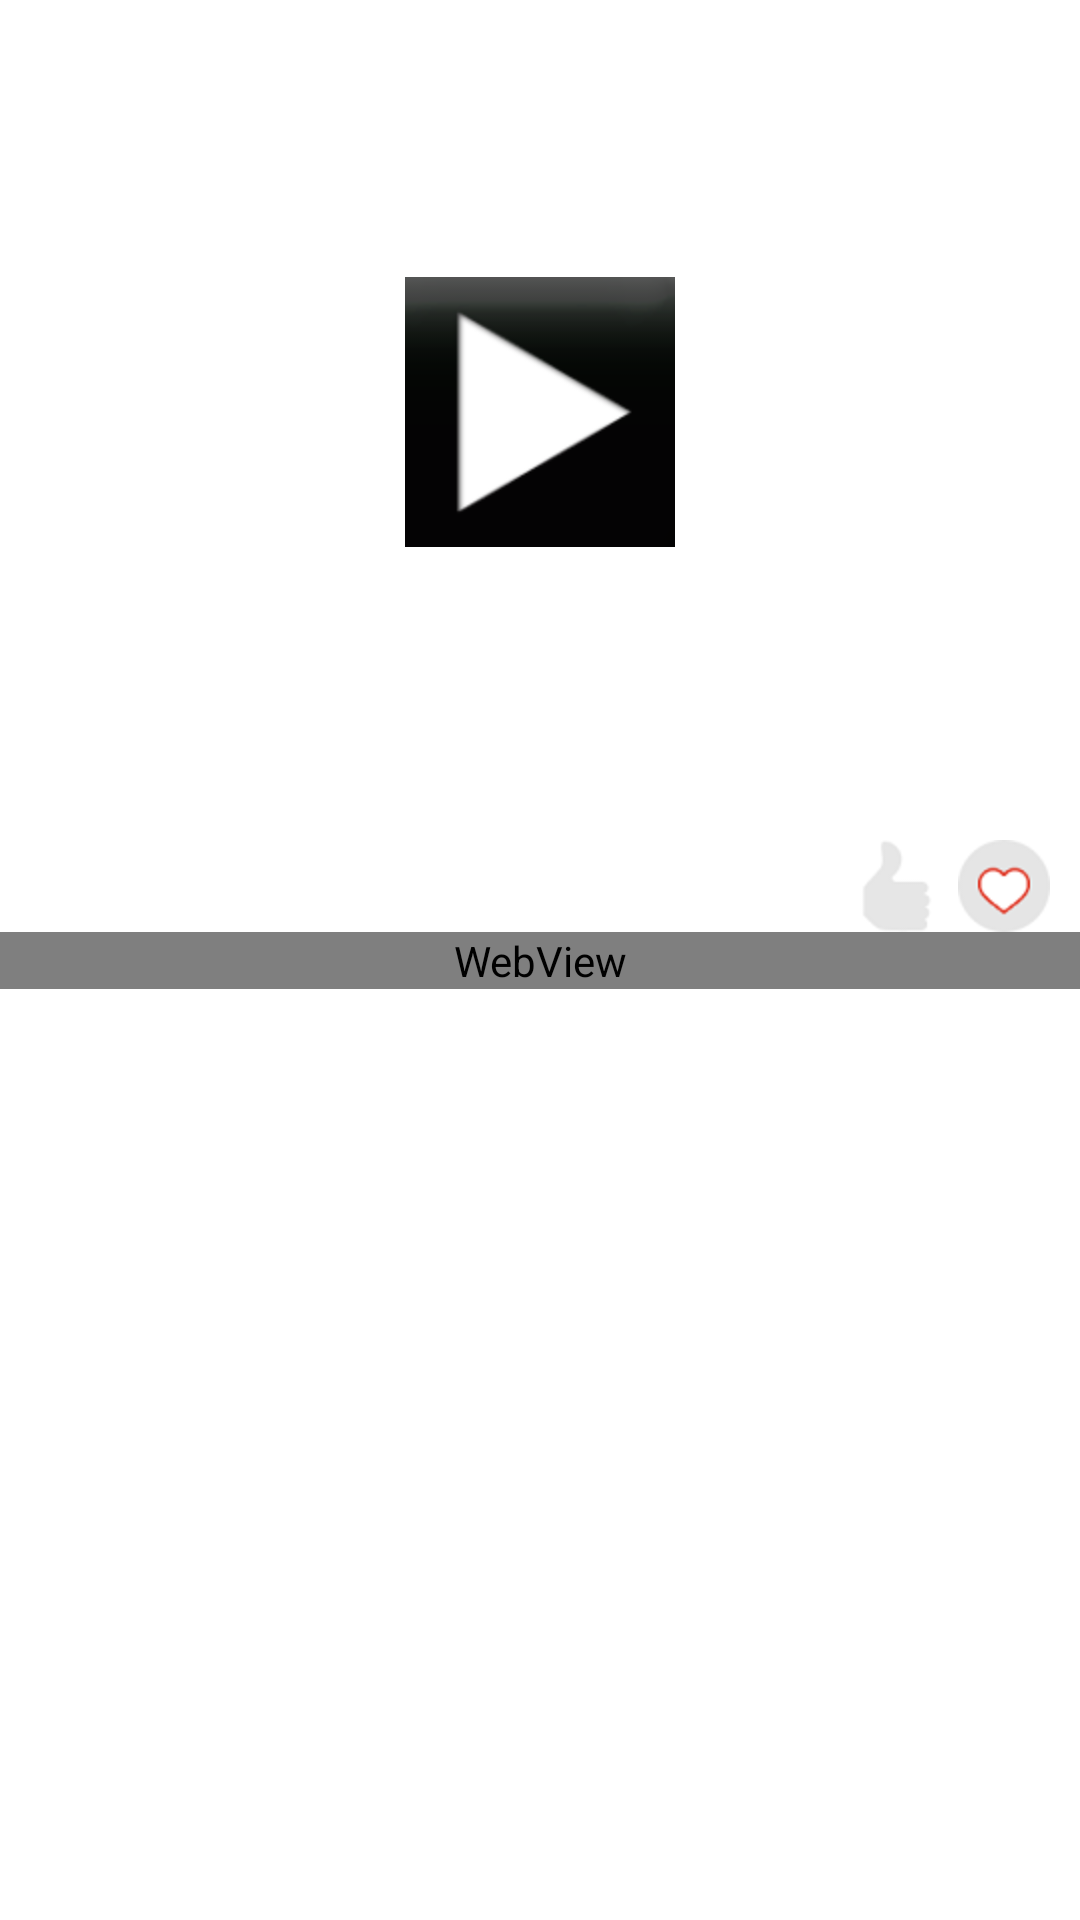

Locate icon controls on the screen. Image size 1080px x 1920px, boxes as Rect(x1, y1, x2, y2).
preview: Rect(405, 277, 675, 547)
